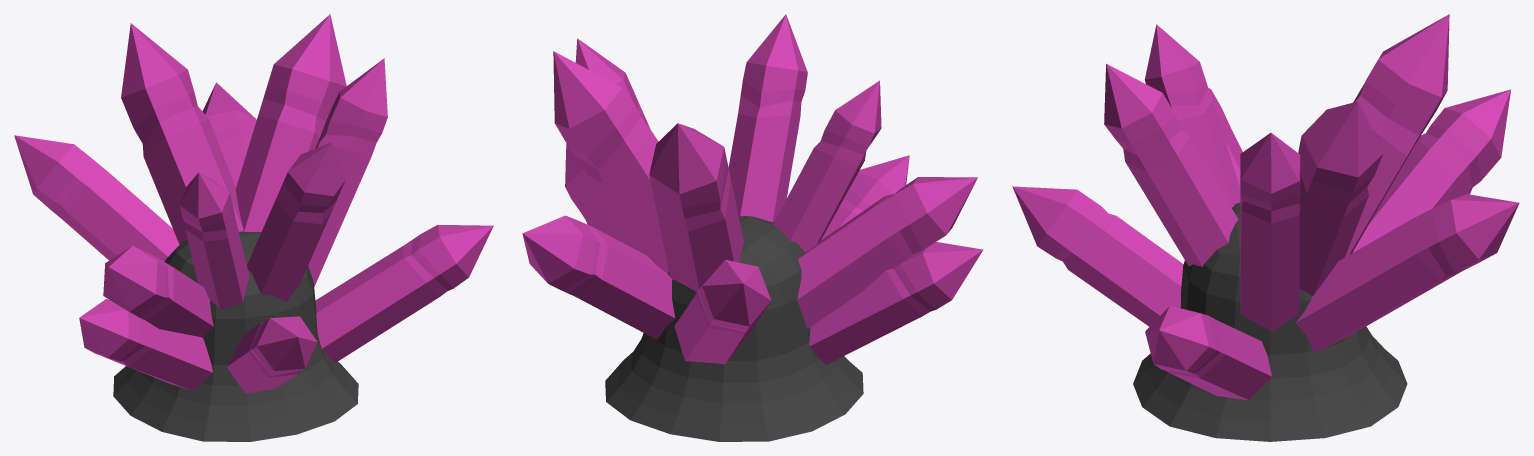
The model's file is mine3.glb.
3 views of the same model, side by side, from view 1: azimuth 30°, elevation 25°; view 2: azimuth 150°, elevation 25°; view 3: azimuth 270°, elevation 25° (orthographic). The views are drawn at different scales.
Visible parts, largest first — view 1: Mineral.001; view 2: Mineral.001; view 3: Mineral.001.
Part boxes in pixels (x1,y1,x2,y2): Mineral.001: (14, 14, 493, 441); Mineral.001: (522, 14, 983, 441); Mineral.001: (1012, 14, 1519, 441).
Bounding box in the file's own units: 3.04 × 2.26 × 2.92.
